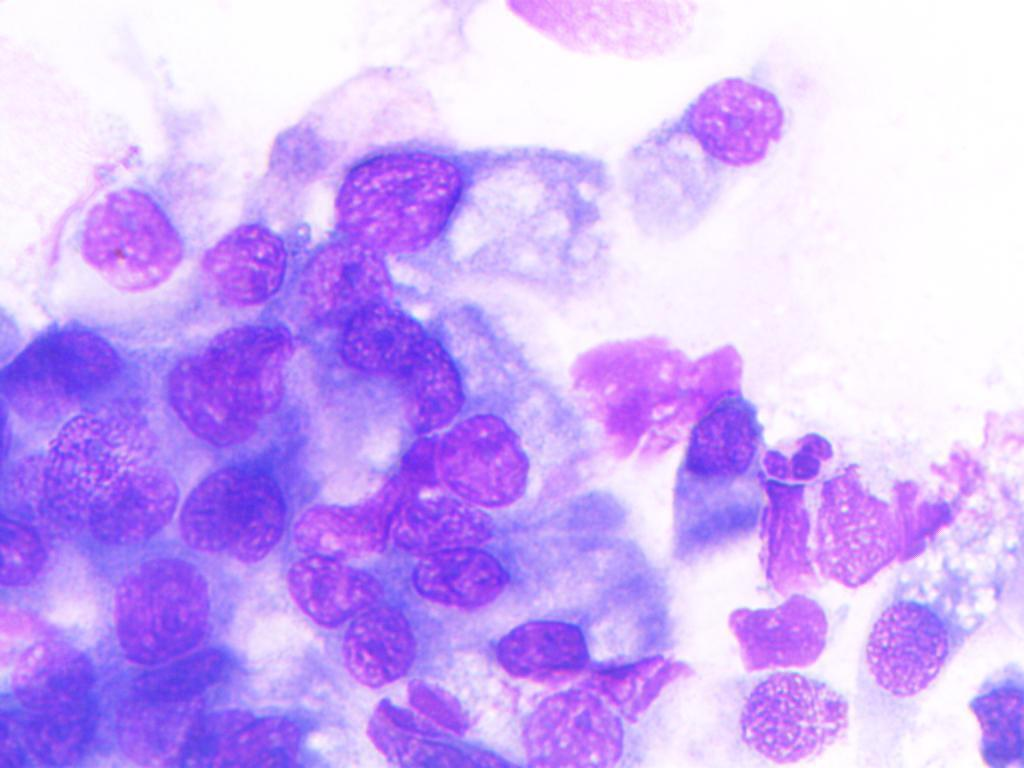artifact: (821, 426, 1016, 588), (712, 598, 834, 669), (757, 483, 812, 594), (968, 667, 1024, 768)
ciliated: (666, 393, 757, 570)
epithelial: (57, 167, 202, 298), (691, 668, 862, 758), (175, 444, 286, 565), (203, 309, 314, 411), (101, 561, 215, 659), (475, 603, 590, 684), (194, 212, 293, 306), (436, 409, 529, 507), (298, 240, 401, 321), (524, 688, 628, 768), (166, 356, 260, 443), (390, 551, 520, 613), (92, 471, 181, 552), (280, 557, 380, 627), (114, 681, 198, 763), (9, 638, 102, 710), (341, 602, 412, 694), (338, 308, 434, 376), (404, 356, 473, 434), (390, 502, 494, 553), (296, 498, 378, 554), (236, 711, 313, 768), (21, 712, 93, 763)
goblet_cell: (328, 138, 620, 258), (619, 62, 791, 254), (862, 513, 1010, 696)
neutrophil: (762, 429, 839, 489)
